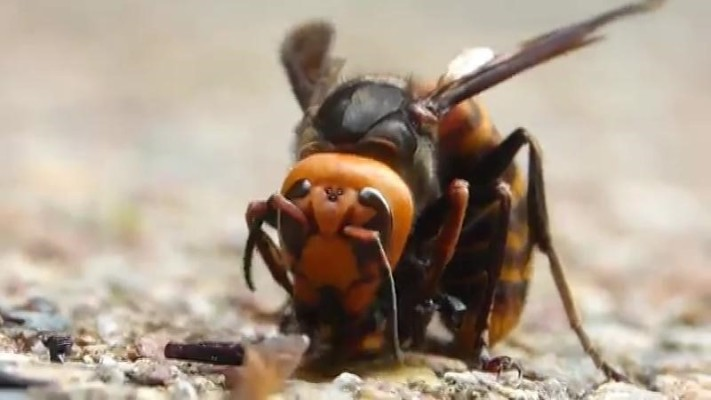asian_giant_hornet: (243, 60, 550, 351)
